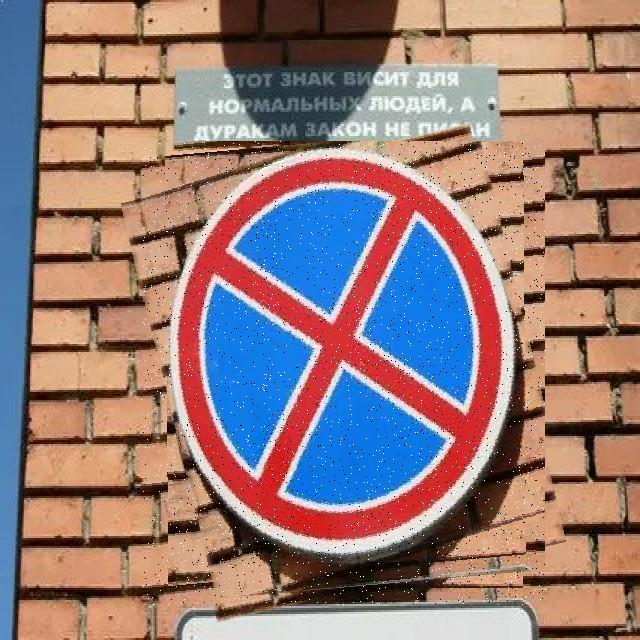no stopping: (143, 141, 545, 605)
